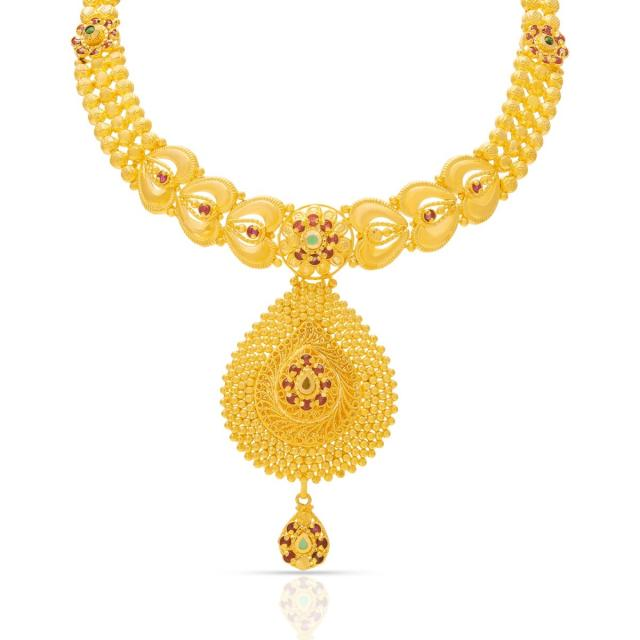missing gem: (299, 512, 312, 525), (297, 557, 310, 570), (287, 234, 300, 247)
